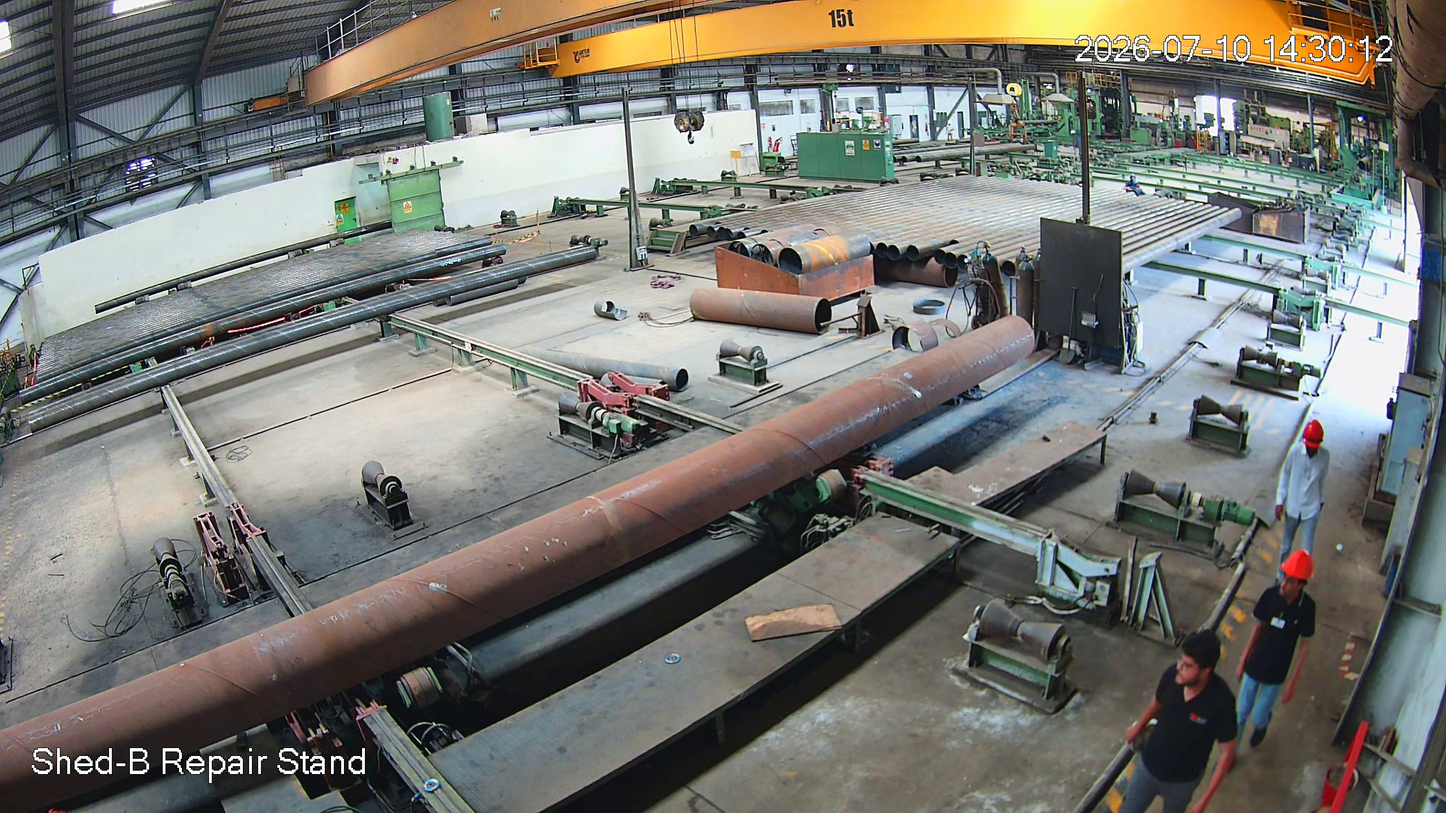Helmet: (1262, 543, 1328, 600), (1289, 402, 1330, 471)
Person: (1128, 631, 1239, 813), (1239, 545, 1331, 759), (1266, 412, 1342, 604)
